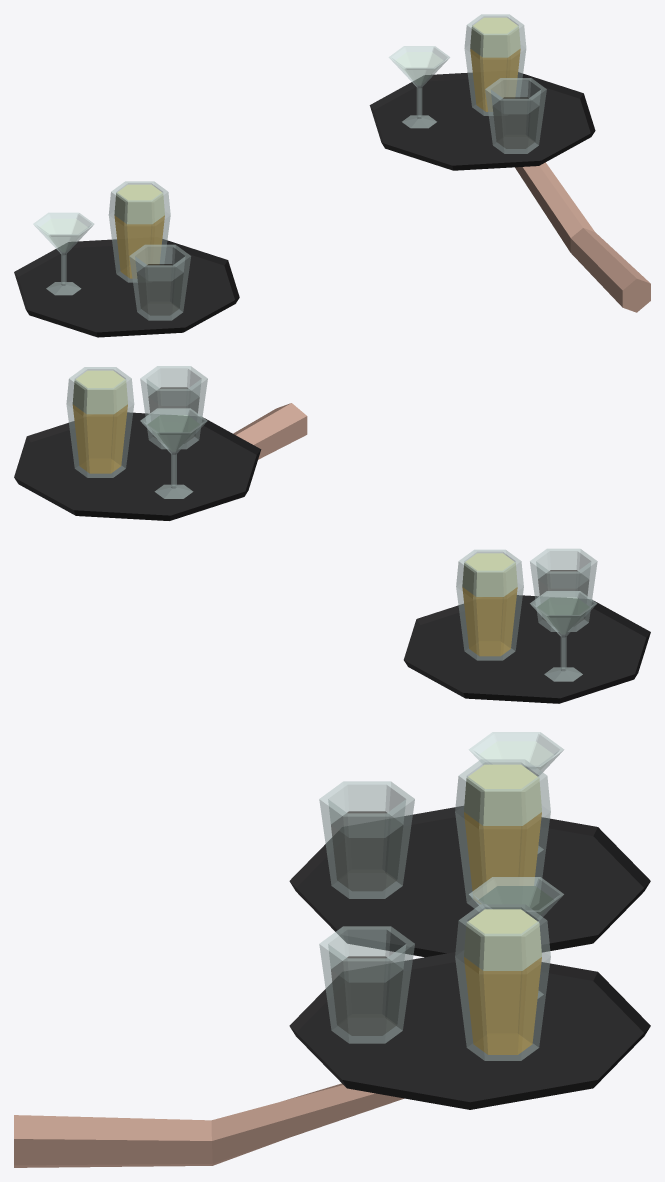
File: dienblad.fbx
3 renders of one model, top to bottom at view 1: azimuth 30°, elevation 25°; view 2: azimuth 150°, elevation 25°; view 3: azimuth 270°, elevation 25°, orthographic. The views are drawn at different scales.
Parts seen in each view (by area): view 1: Cylinder, Cylinder.001, Cylinder.002, pilsie.001, pilsie, cola glas, cola glas.001, martini.001, martini; view 2: Cylinder, Cylinder.001, pilsie, pilsie.001, cola glas, cola glas.001, martini, martini.001, Cylinder.002; view 3: Cylinder.001, Cylinder, Cylinder.002, pilsie.001, pilsie, cola glas, cola glas.001, martini.001, martini.
Boxes of the visible parts, <box> form: Cylinder: <box>14,239,239,337</box>; Cylinder.001: <box>369,72,595,170</box>; Cylinder.002: <box>515,162,650,312</box>; pilsie.001: <box>464,14,526,115</box>; pilsie: <box>108,181,170,282</box>; cola glas: <box>129,244,190,320</box>; cola glas.001: <box>485,78,546,153</box>; martini.001: <box>389,46,449,128</box>; martini: <box>33,212,94,295</box>; Cylinder: <box>403,595,650,703</box>; Cylinder.001: <box>14,412,261,520</box>; pilsie: <box>456,549,523,660</box>; pilsie.001: <box>66,367,134,477</box>; cola glas: <box>530,548,597,631</box>; cola glas.001: <box>140,366,207,449</box>; martini: <box>530,591,596,681</box>; martini.001: <box>140,408,207,498</box>; Cylinder.002: <box>233,403,307,459</box>; Cylinder.001: <box>289,951,650,1109</box>; Cylinder: <box>289,806,650,957</box>; Cylinder.002: <box>14,1083,403,1167</box>; pilsie.001: <box>455,904,550,1060</box>; pilsie: <box>455,759,550,911</box>; cola glas: <box>319,781,414,898</box>; cola glas.001: <box>319,926,414,1043</box>; martini.001: <box>469,877,563,997</box>; martini: <box>469,732,563,853</box>.
Bounding box in the file's own units: 208 × 59.84 × 133.
